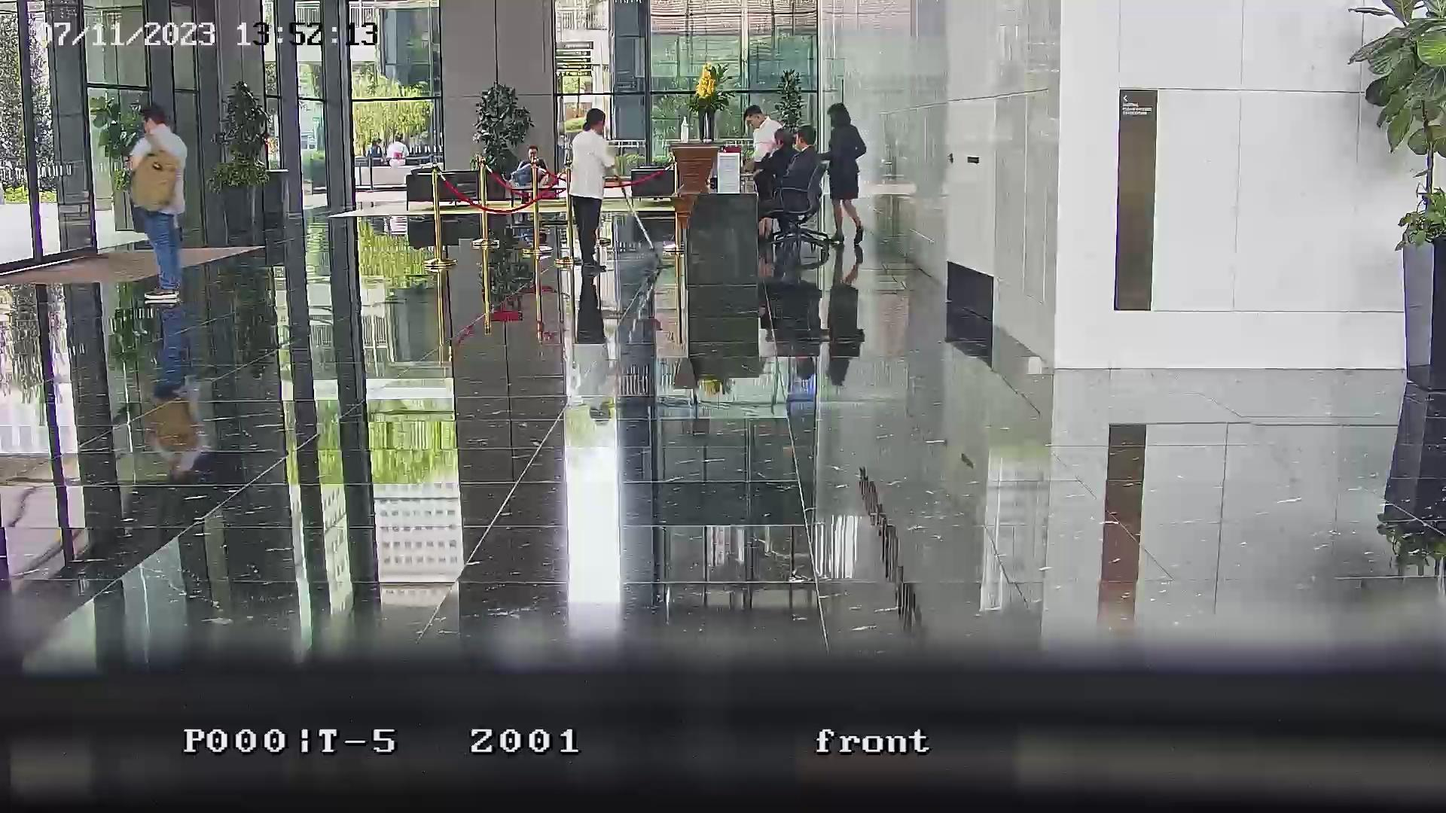person: (128, 106, 189, 304), (566, 108, 625, 264), (820, 103, 866, 245), (762, 126, 819, 212), (745, 105, 789, 163), (503, 145, 548, 186), (762, 126, 796, 175), (385, 131, 410, 166), (369, 137, 385, 165)
